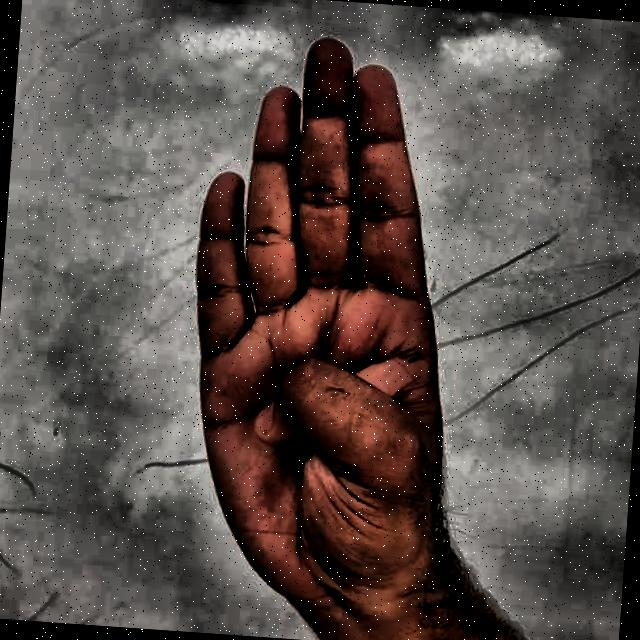Ba: (130, 7, 529, 640)
